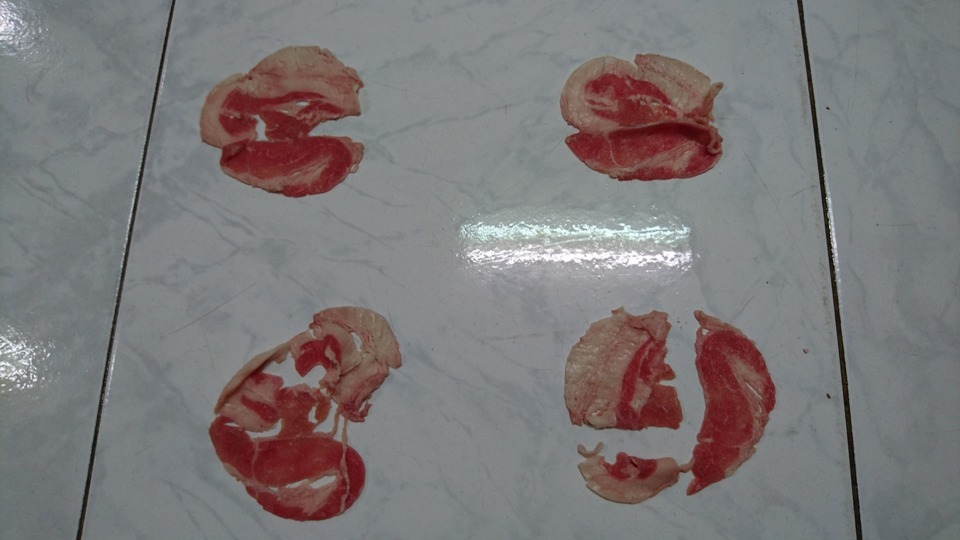restructured meat: (207, 298, 411, 523), (563, 306, 780, 506), (201, 42, 369, 202), (560, 42, 730, 184)
